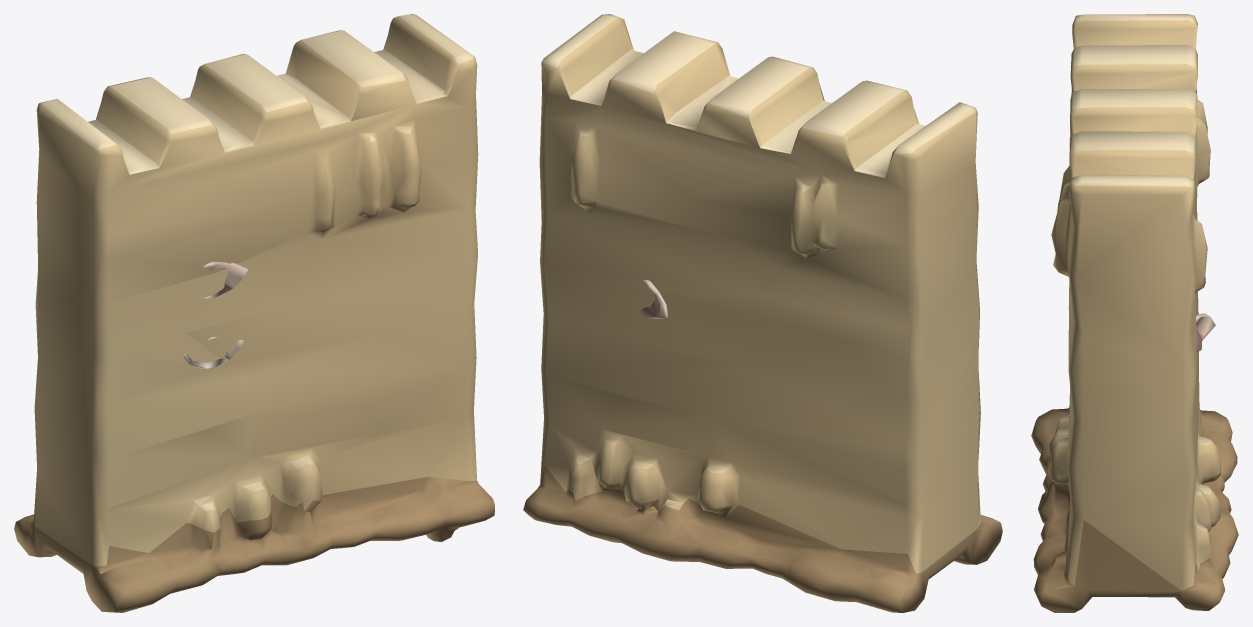
The model's file is shore_castle_wall_lod1.glb.
The picture shows the model from 3 angles, left to right: view 1: azimuth 30°, elevation 25°; view 2: azimuth 150°, elevation 25°; view 3: azimuth 270°, elevation 25°; orthographic projection. The views are drawn at different scales.
Parts seen in each view (by area): view 1: shore_castle_wall.001; view 2: shore_castle_wall.001; view 3: shore_castle_wall.001.
Part boxes in pixels (left/top/right/bottom): shore_castle_wall.001: left=14, top=14, right=494, bottom=612; shore_castle_wall.001: left=523, top=14, right=1002, bottom=612; shore_castle_wall.001: left=1031, top=14, right=1238, bottom=612.
Size of the model in its own units: 10.02 by 11.82 by 4.98.
